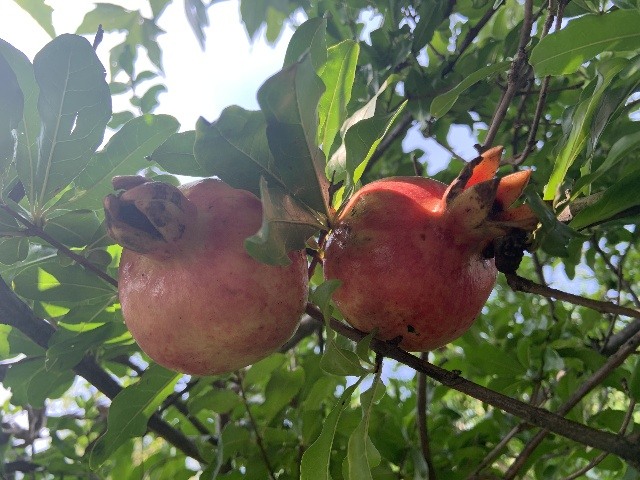ripe: (322, 144, 536, 352), (102, 174, 309, 374)
